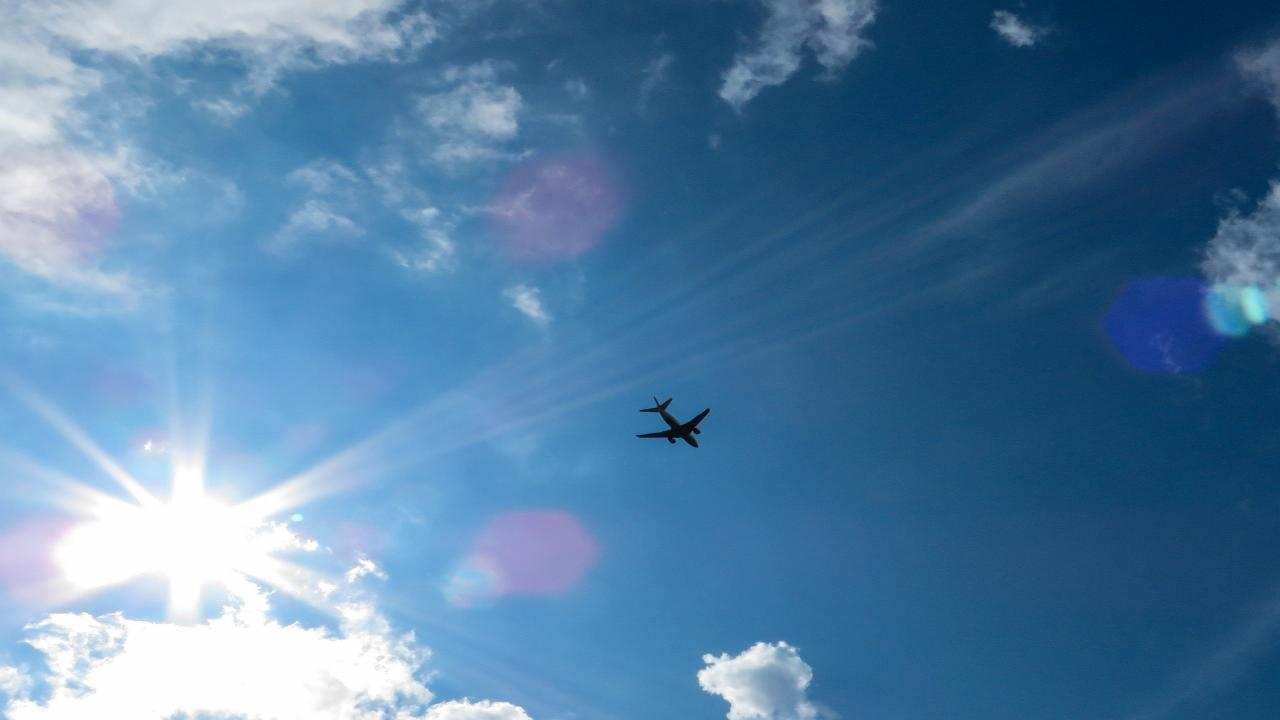Airplane: (626, 387, 720, 454)
